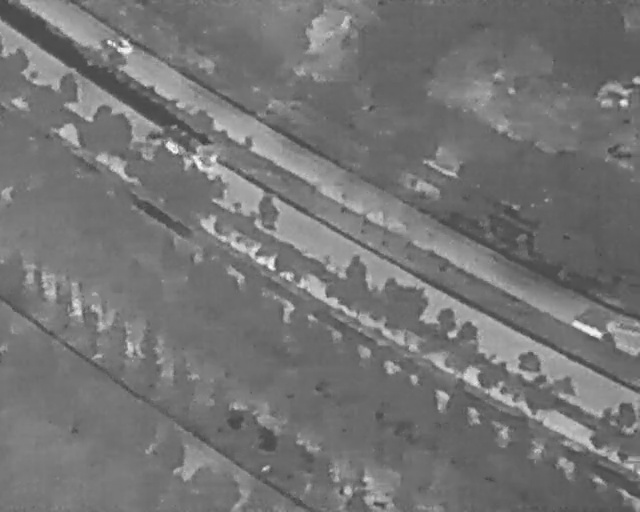Car: (96, 29, 135, 58)
OtherVehicle: (147, 107, 223, 171)
